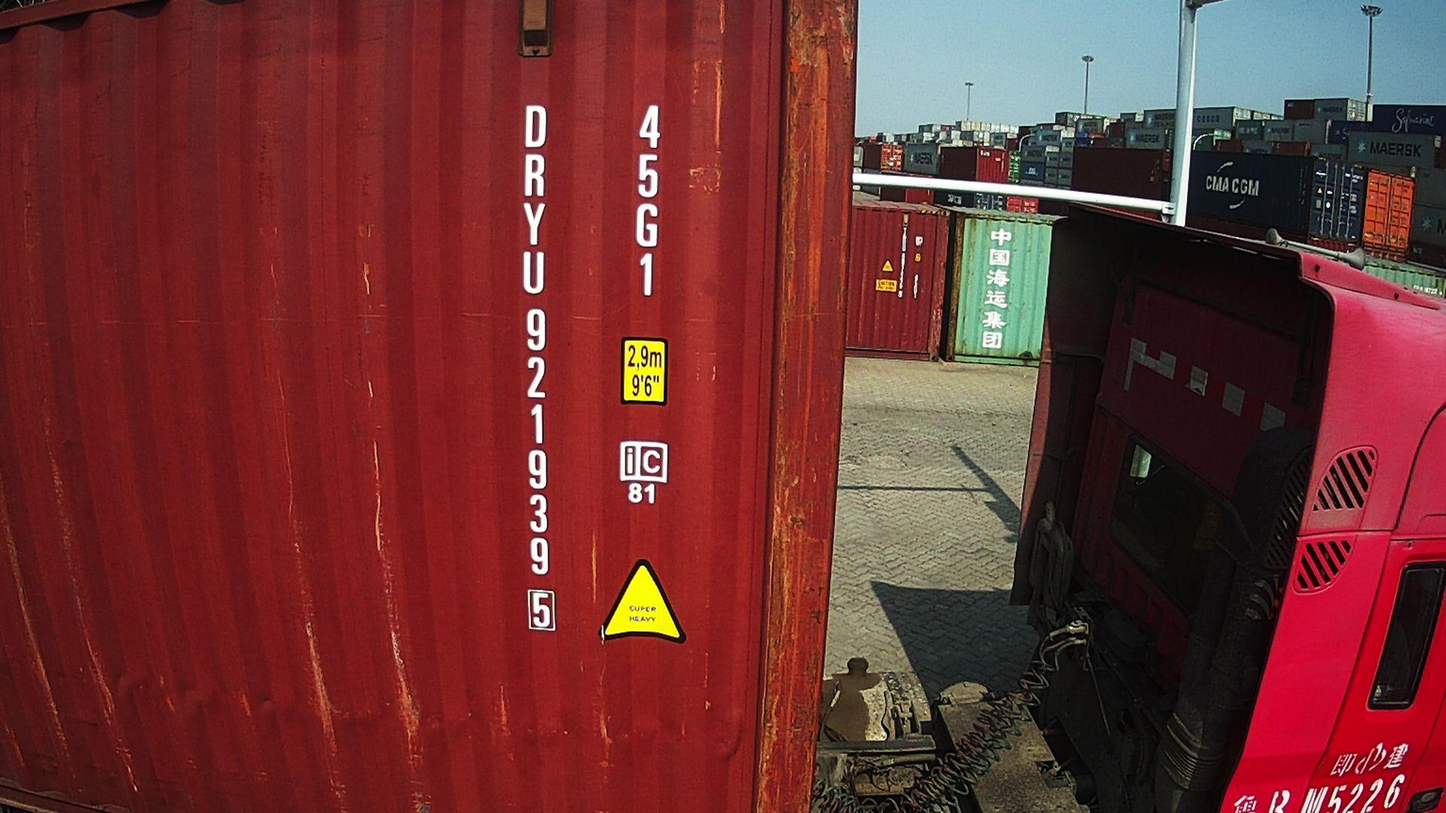container-numbers: (511, 94, 557, 634), (628, 101, 670, 303)
